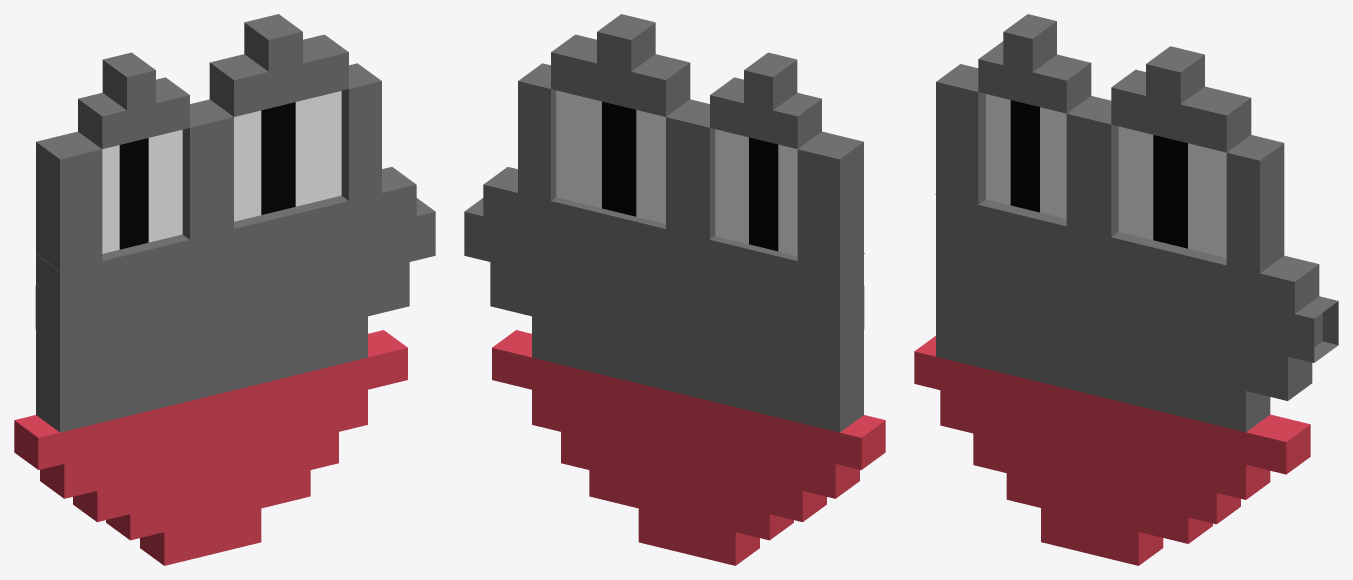
The model's file is cat.gltf.
The picture shows the model from 3 angles, left to right: view 1: azimuth 30°, elevation 25°; view 2: azimuth 150°, elevation 25°; view 3: azimuth 330°, elevation 25°; orthographic projection.
Parts seen in each view (by area): view 1: Cube.001; view 2: Cube.001; view 3: Cube.001.
Boxes of the visible parts, x1,y1,x2,y2 form: Cube.001: (14,14,435,565); Cube.001: (464,14,885,565); Cube.001: (914,14,1338,565).
Bounding box in the file's own units: 15.32 × 18.43 × 1.65.
